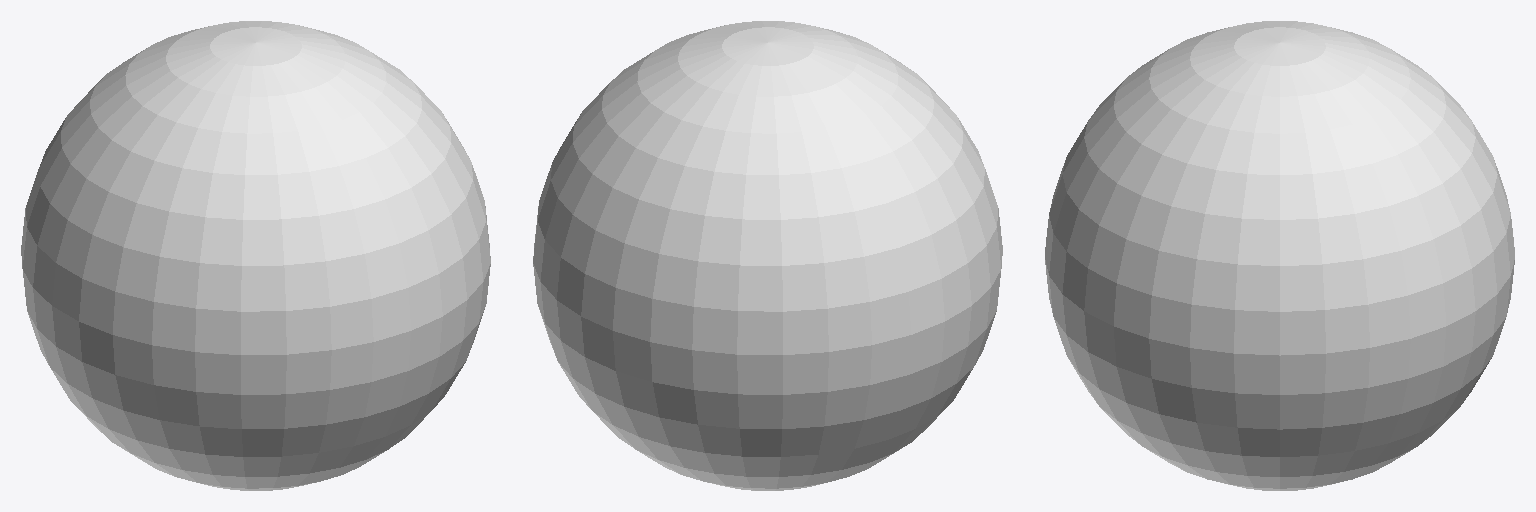
3 views of the same model, side by side, from view 1: azimuth 30°, elevation 25°; view 2: azimuth 150°, elevation 25°; view 3: azimuth 270°, elevation 25° (orthographic).
Visible parts, largest first — view 1: sky_sphere; view 2: sky_sphere; view 3: sky_sphere.
Part boxes in pixels (left/top/right/bottom): sky_sphere: left=21, top=21, right=490, bottom=490; sky_sphere: left=533, top=21, right=1002, bottom=490; sky_sphere: left=1045, top=21, right=1514, bottom=490.
Size of the model in its own units: 2638 by 2638 by 2638.
1 materials, 1 textured.